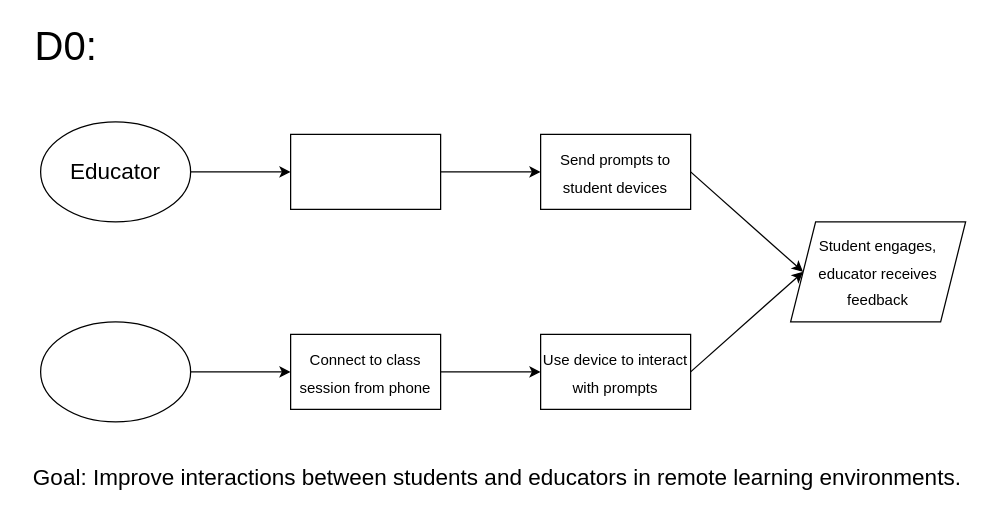
Some shapes in this 993 by 518 pixel diagram are drawn without their labels. Here are the shapes that lost their labels. From the top down, the centre of each, then its label:
At point (365, 171): "Use Dashboard to create prompts".
At point (115, 371): "Student".
